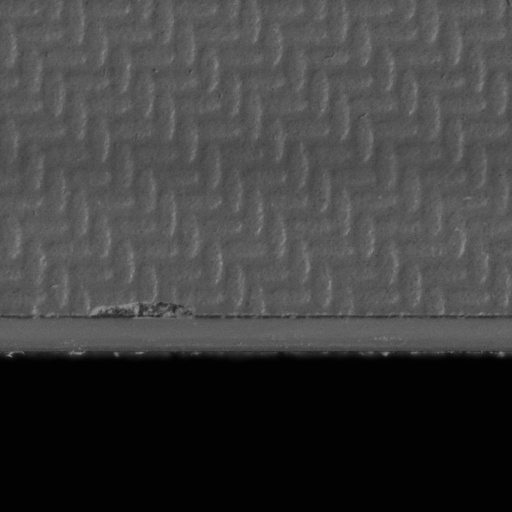bengque: (86, 299, 199, 322)
